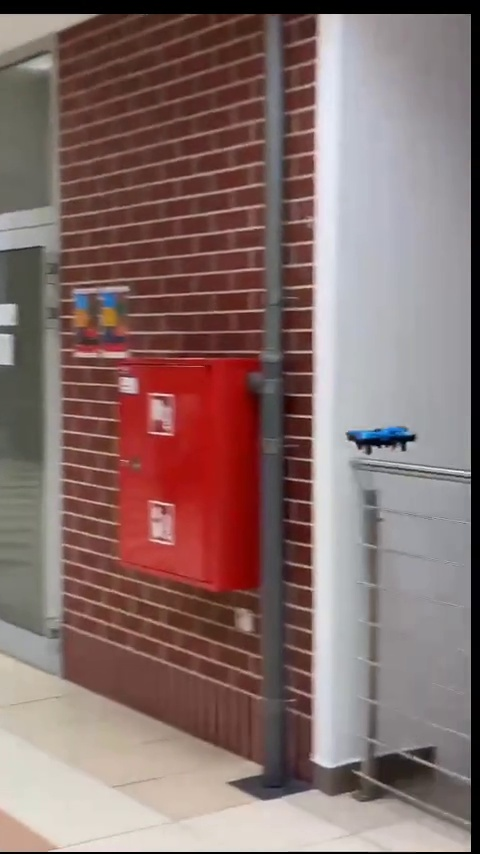drone: (346, 427, 418, 458)
